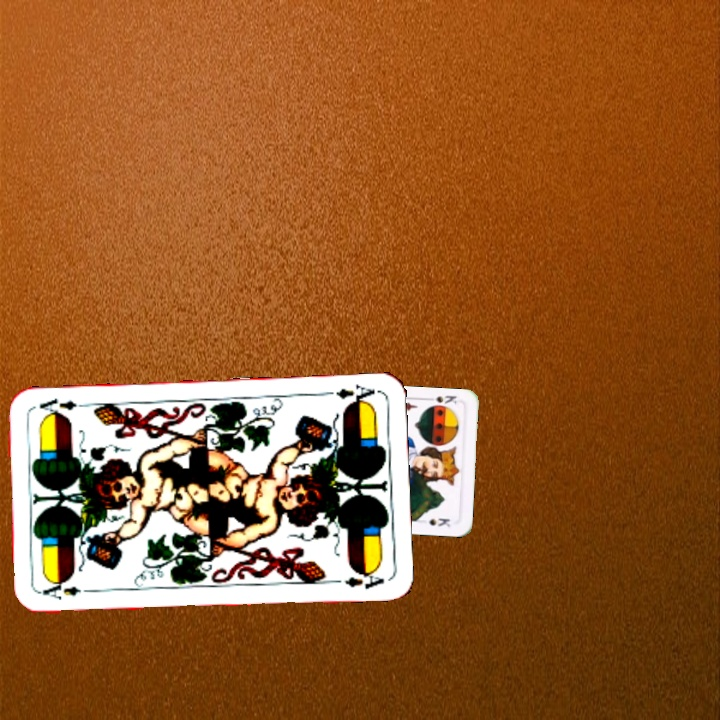EA: (321, 380, 380, 408), (38, 578, 83, 603)
SK: (422, 391, 459, 406)
